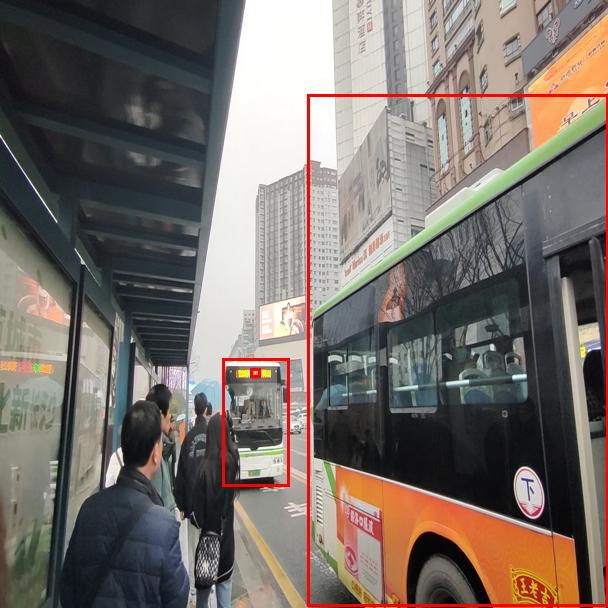bus: (307, 94, 608, 606), (222, 358, 289, 486)
screen: (250, 368, 260, 377)
